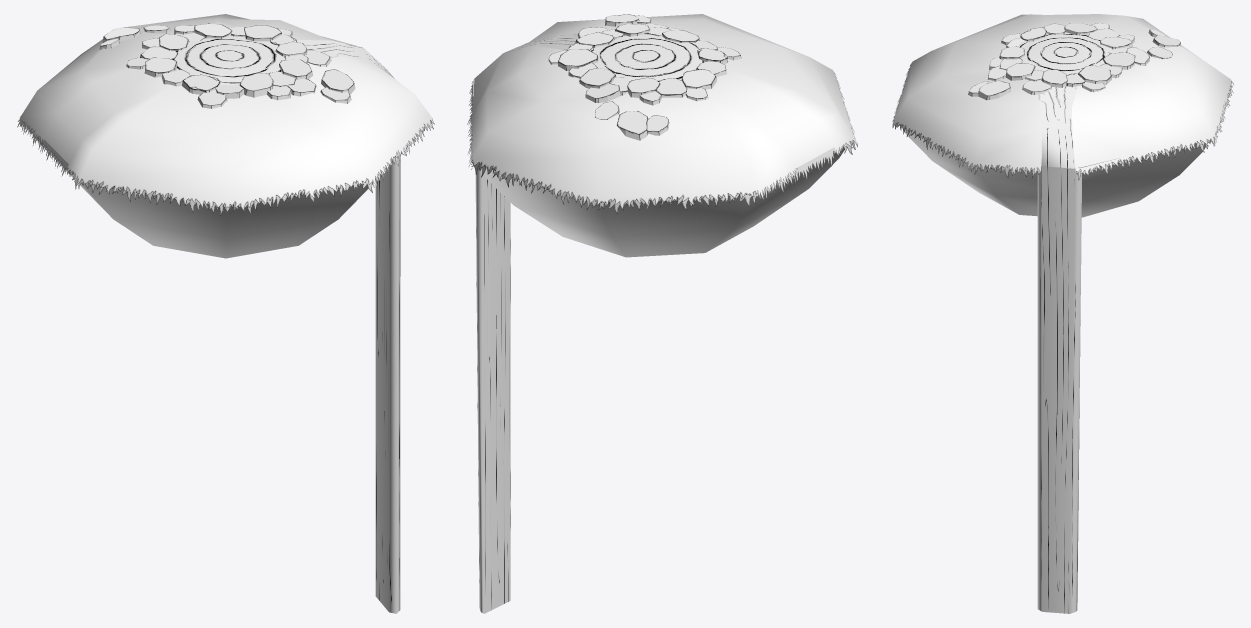
The model's file is Island2.fbx.
3 renders of one model, left to right at view 1: azimuth 30°, elevation 25°; view 2: azimuth 150°, elevation 25°; view 3: azimuth 270°, elevation 25°, orthographic. The views are drawn at different scales.
Parts seen in each view (by area): view 1: grass, Waterfall2, Ground_UnderWater3, spring1, springWater; view 2: grass, Waterfall2, Ground_UnderWater3, spring1, springWater; view 3: grass, Waterfall2, Ground_UnderWater3, spring1, springWater.
Boxes of the visible parts, bbox=[...] form: grass: bbox=[17, 14, 434, 215]; Waterfall2: bbox=[296, 40, 400, 613]; Ground_UnderWater3: bbox=[33, 133, 417, 258]; spring1: bbox=[99, 23, 355, 108]; springWater: bbox=[172, 35, 285, 85]; grass: bbox=[467, 14, 857, 214]; Waterfall2: bbox=[475, 33, 578, 613]; Ground_UnderWater3: bbox=[473, 79, 844, 257]; spring1: bbox=[548, 14, 741, 140]; springWater: bbox=[592, 33, 704, 81]; grass: bbox=[892, 14, 1233, 180]; Waterfall2: bbox=[1036, 85, 1081, 613]; Ground_UnderWater3: bbox=[901, 126, 1205, 217]; spring1: bbox=[968, 23, 1181, 100]; springWater: bbox=[1018, 32, 1113, 74].
Size of the model in its own units: 717 by 1139 by 724.
5 materials, 4 textured.
